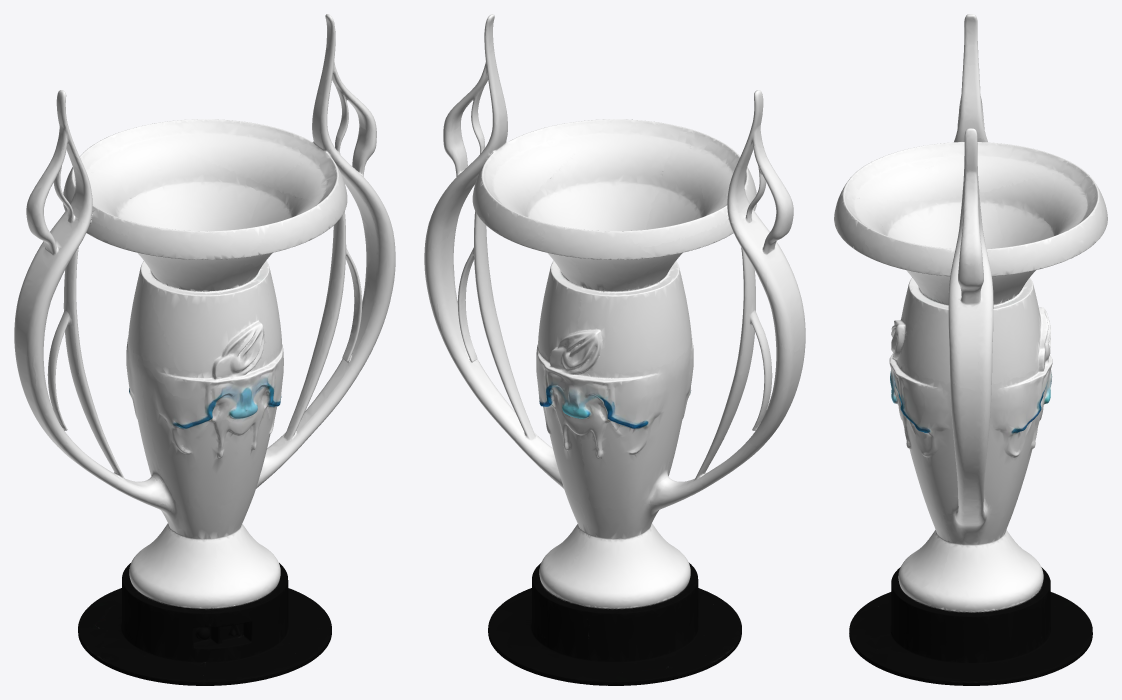
The model's file is japon.glb.
3 views of the same model, side by side, from view 1: azimuth 30°, elevation 25°; view 2: azimuth 150°, elevation 25°; view 3: azimuth 270°, elevation 25° (orthographic). The views are drawn at different scales.
Visible parts, largest first — view 1: mesh_node; view 2: mesh_node; view 3: mesh_node.
Part boxes in pixels (box(x1,y1,x2,y2)): mesh_node: box(14, 14, 395, 685); mesh_node: box(424, 14, 805, 685); mesh_node: box(834, 14, 1107, 685).
Bounding box in the file's own units: 1.24 × 1.9 × 0.8353.
Materials: 1 (1 with a texture image).
